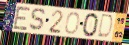2: (48, 9, 64, 35)
D: (96, 13, 115, 40)
E: (12, 5, 32, 32)
O: (82, 12, 100, 38), (63, 11, 81, 35)
S: (28, 7, 47, 33)
